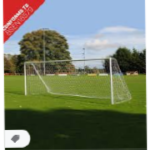goals: (21, 55, 134, 106)
